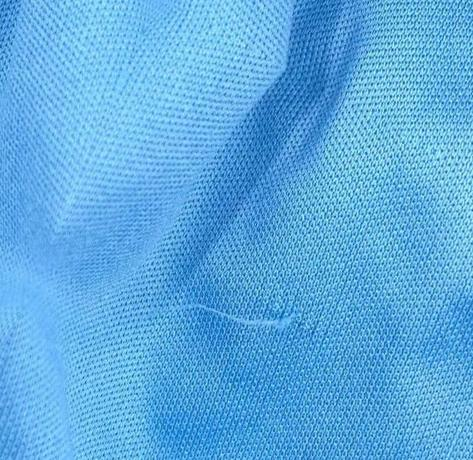snag: (175, 291, 317, 341)
